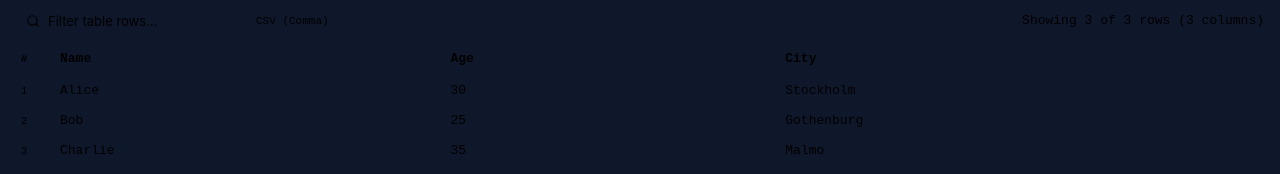
Scenario: CsvTablePreview › sorts numeric and string columns on header click
This screenshot has width=1280, height=174.
Click the column heading "Age".
click(462, 58)  # box [438,42,773,76]
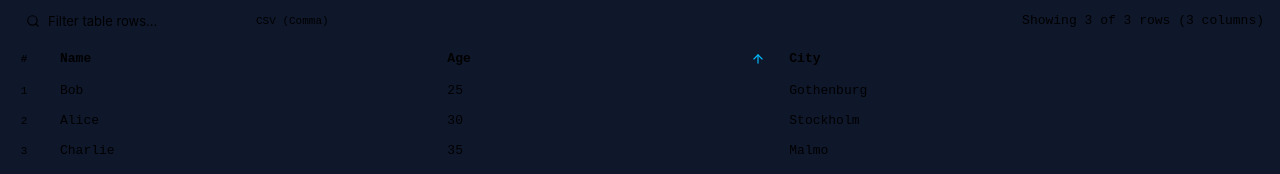
Now the row "1 Bob 25 Gothenburg" is shown, box [0,76,1279,106]
Click the column heading "Age".
click(459, 58)  # box [435,42,777,76]
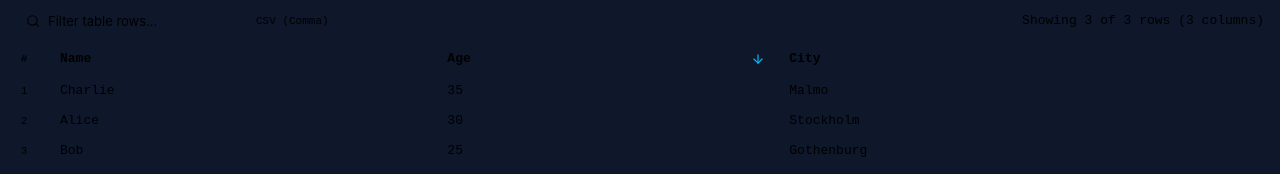
Now the row "1 Charlie 35 Malmo" is shown, box [0,76,1279,106]
